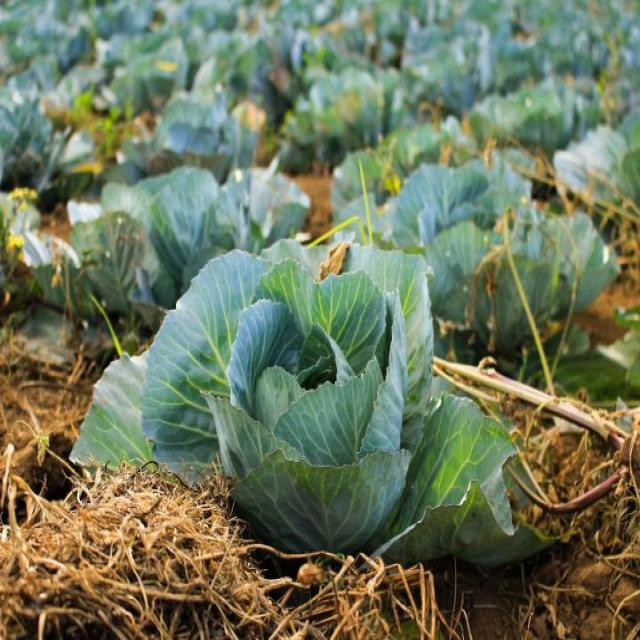cabbage: (191, 238, 437, 610)
